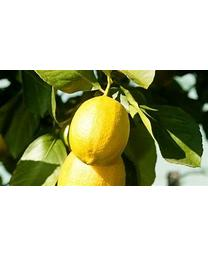lemon: (70, 97, 130, 163)
